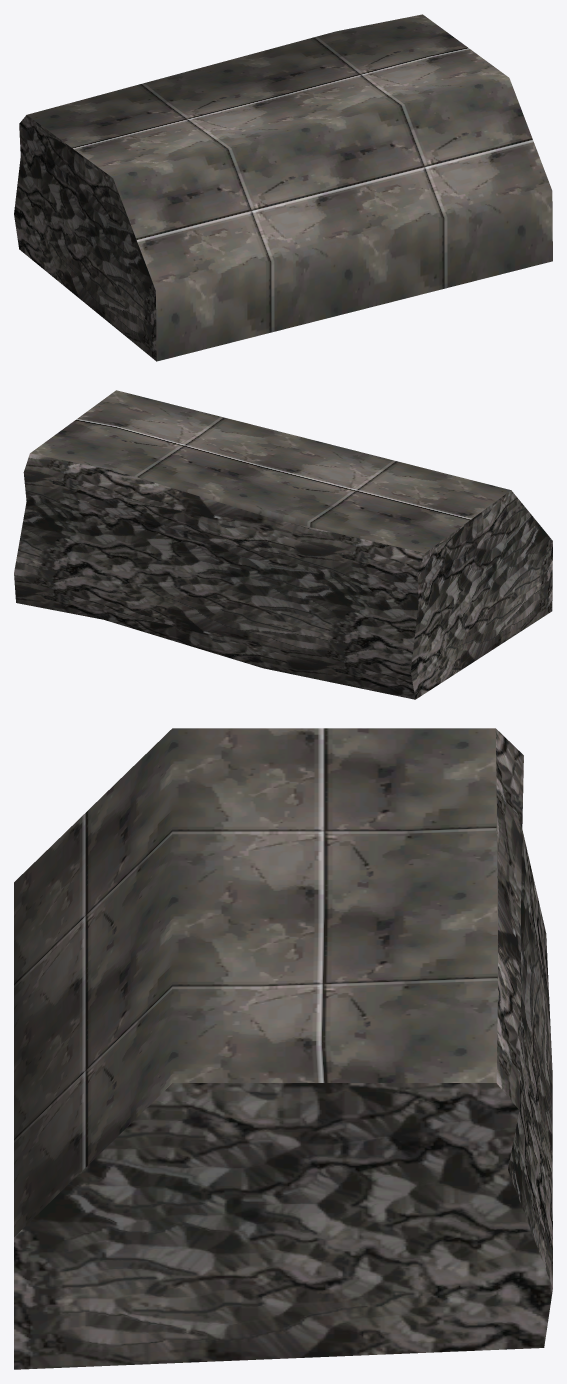
The model's file is INST_SM_DEBRIS_BLOCK_MEDIUMD.fbx.
The picture shows the model from 3 angles, top to bottom: view 1: azimuth 30°, elevation 25°; view 2: azimuth 150°, elevation 25°; view 3: azimuth 270°, elevation 25°; orthographic projection. The views are drawn at different scales.
Parts seen in each view (by area): view 1: INST_SM_DEBRIS_BLOCK_MEDIUMD; view 2: INST_SM_DEBRIS_BLOCK_MEDIUMD; view 3: INST_SM_DEBRIS_BLOCK_MEDIUMD.
Boxes of the visible parts, x1,y1,x2,y2 form: INST_SM_DEBRIS_BLOCK_MEDIUMD: [14, 14, 552, 361]; INST_SM_DEBRIS_BLOCK_MEDIUMD: [14, 390, 552, 699]; INST_SM_DEBRIS_BLOCK_MEDIUMD: [14, 728, 552, 1369].
Bounding box in the file's own units: 50214 × 19329 × 31532.
2 materials, 2 textured.
